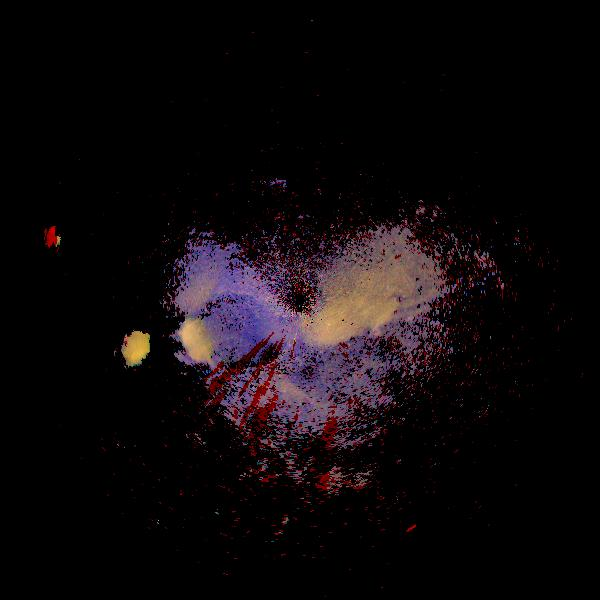roost: (101, 294, 236, 429), (46, 307, 178, 439)
